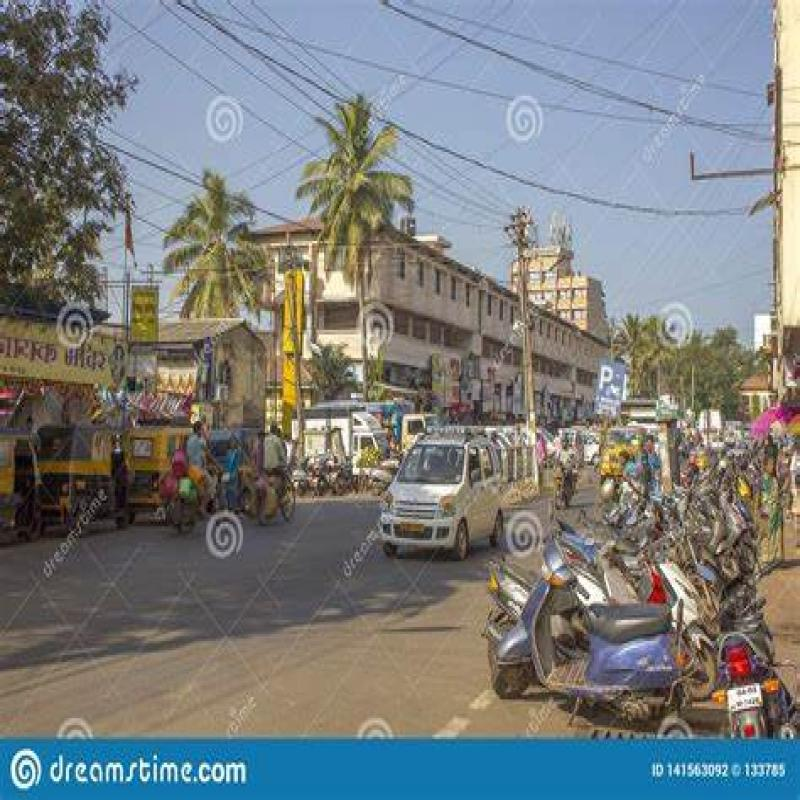auto: (31, 404, 127, 538), (137, 426, 195, 521)
bike: (518, 539, 692, 708)
car: (395, 438, 484, 546)
